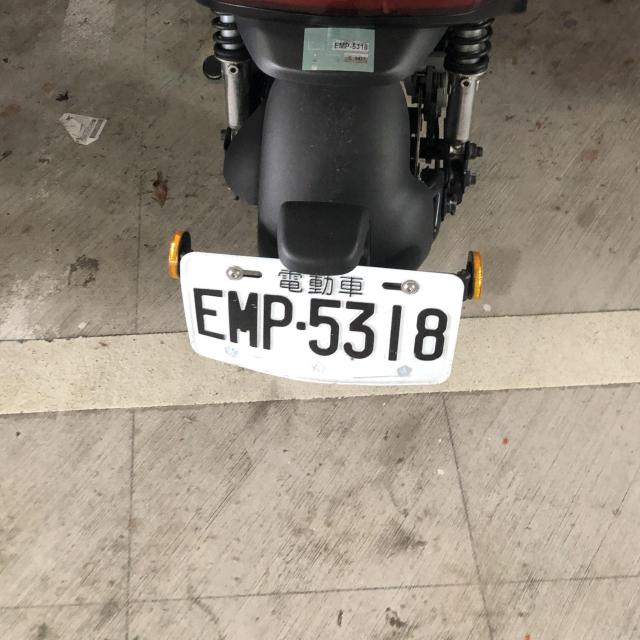W: (171, 248, 468, 396)
